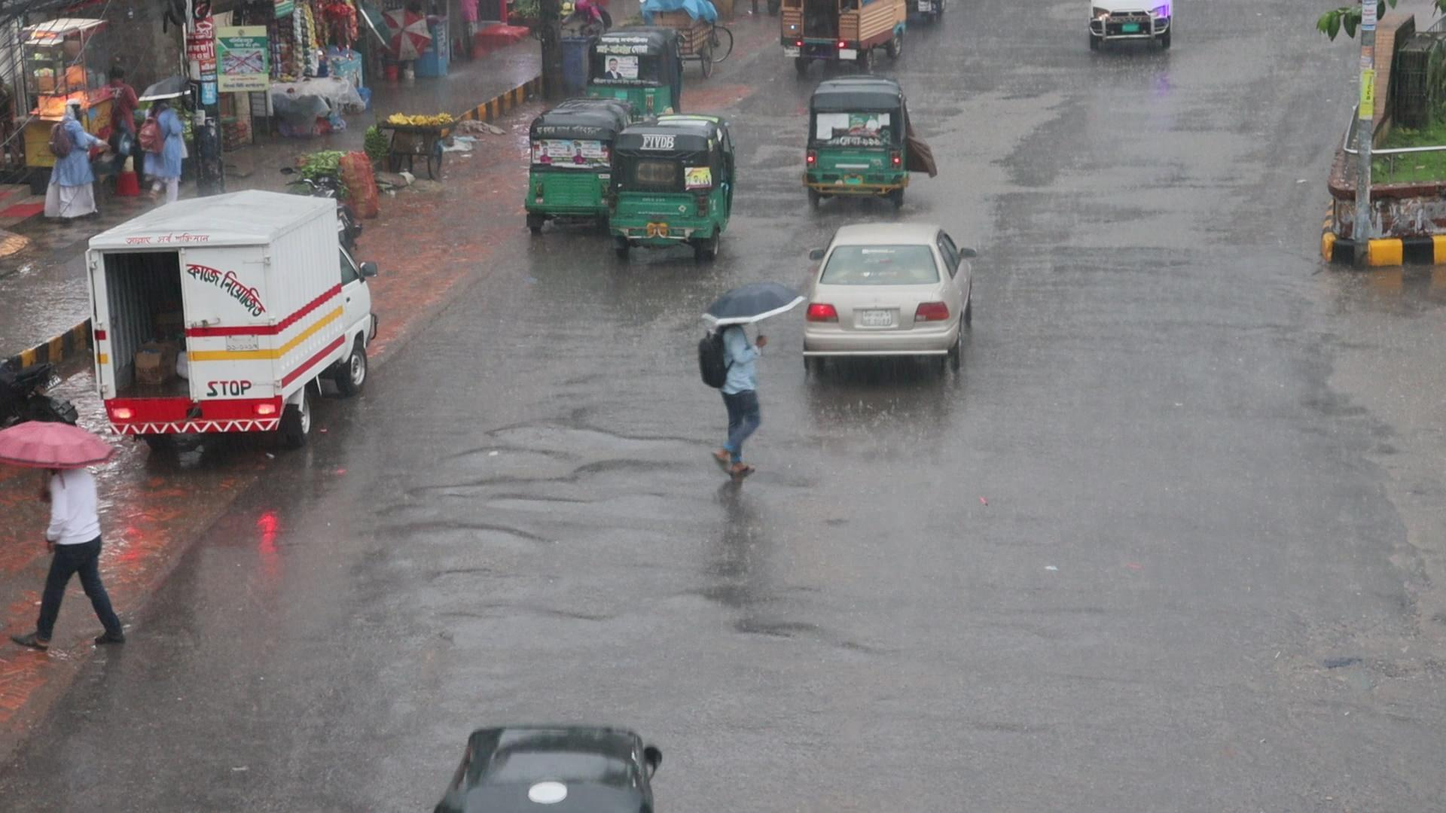Car: (789, 219, 982, 379)
